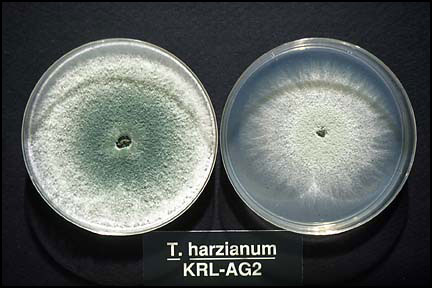Trichoderma: (51, 79, 189, 205), (255, 89, 370, 176)
